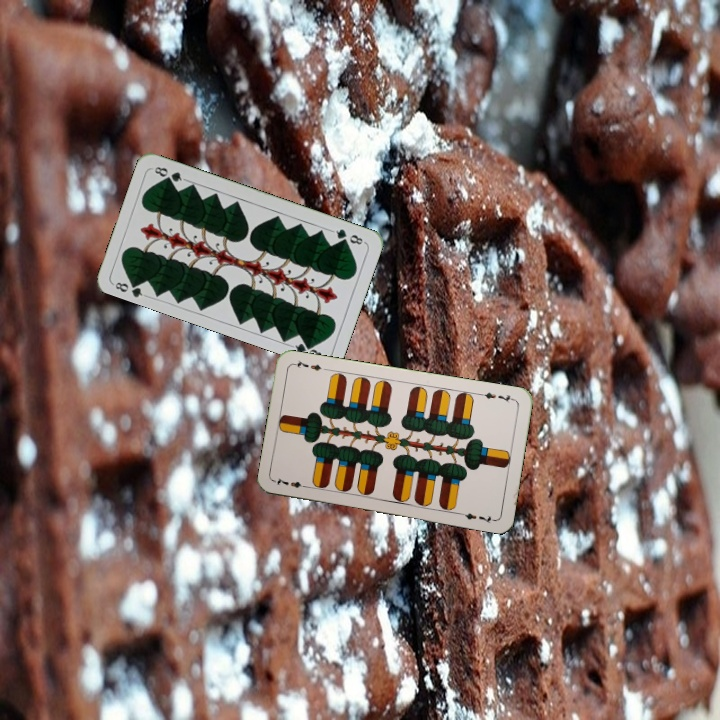E7: (271, 473, 312, 491), (477, 388, 517, 405)
G8: (109, 276, 149, 300), (328, 225, 367, 247)
